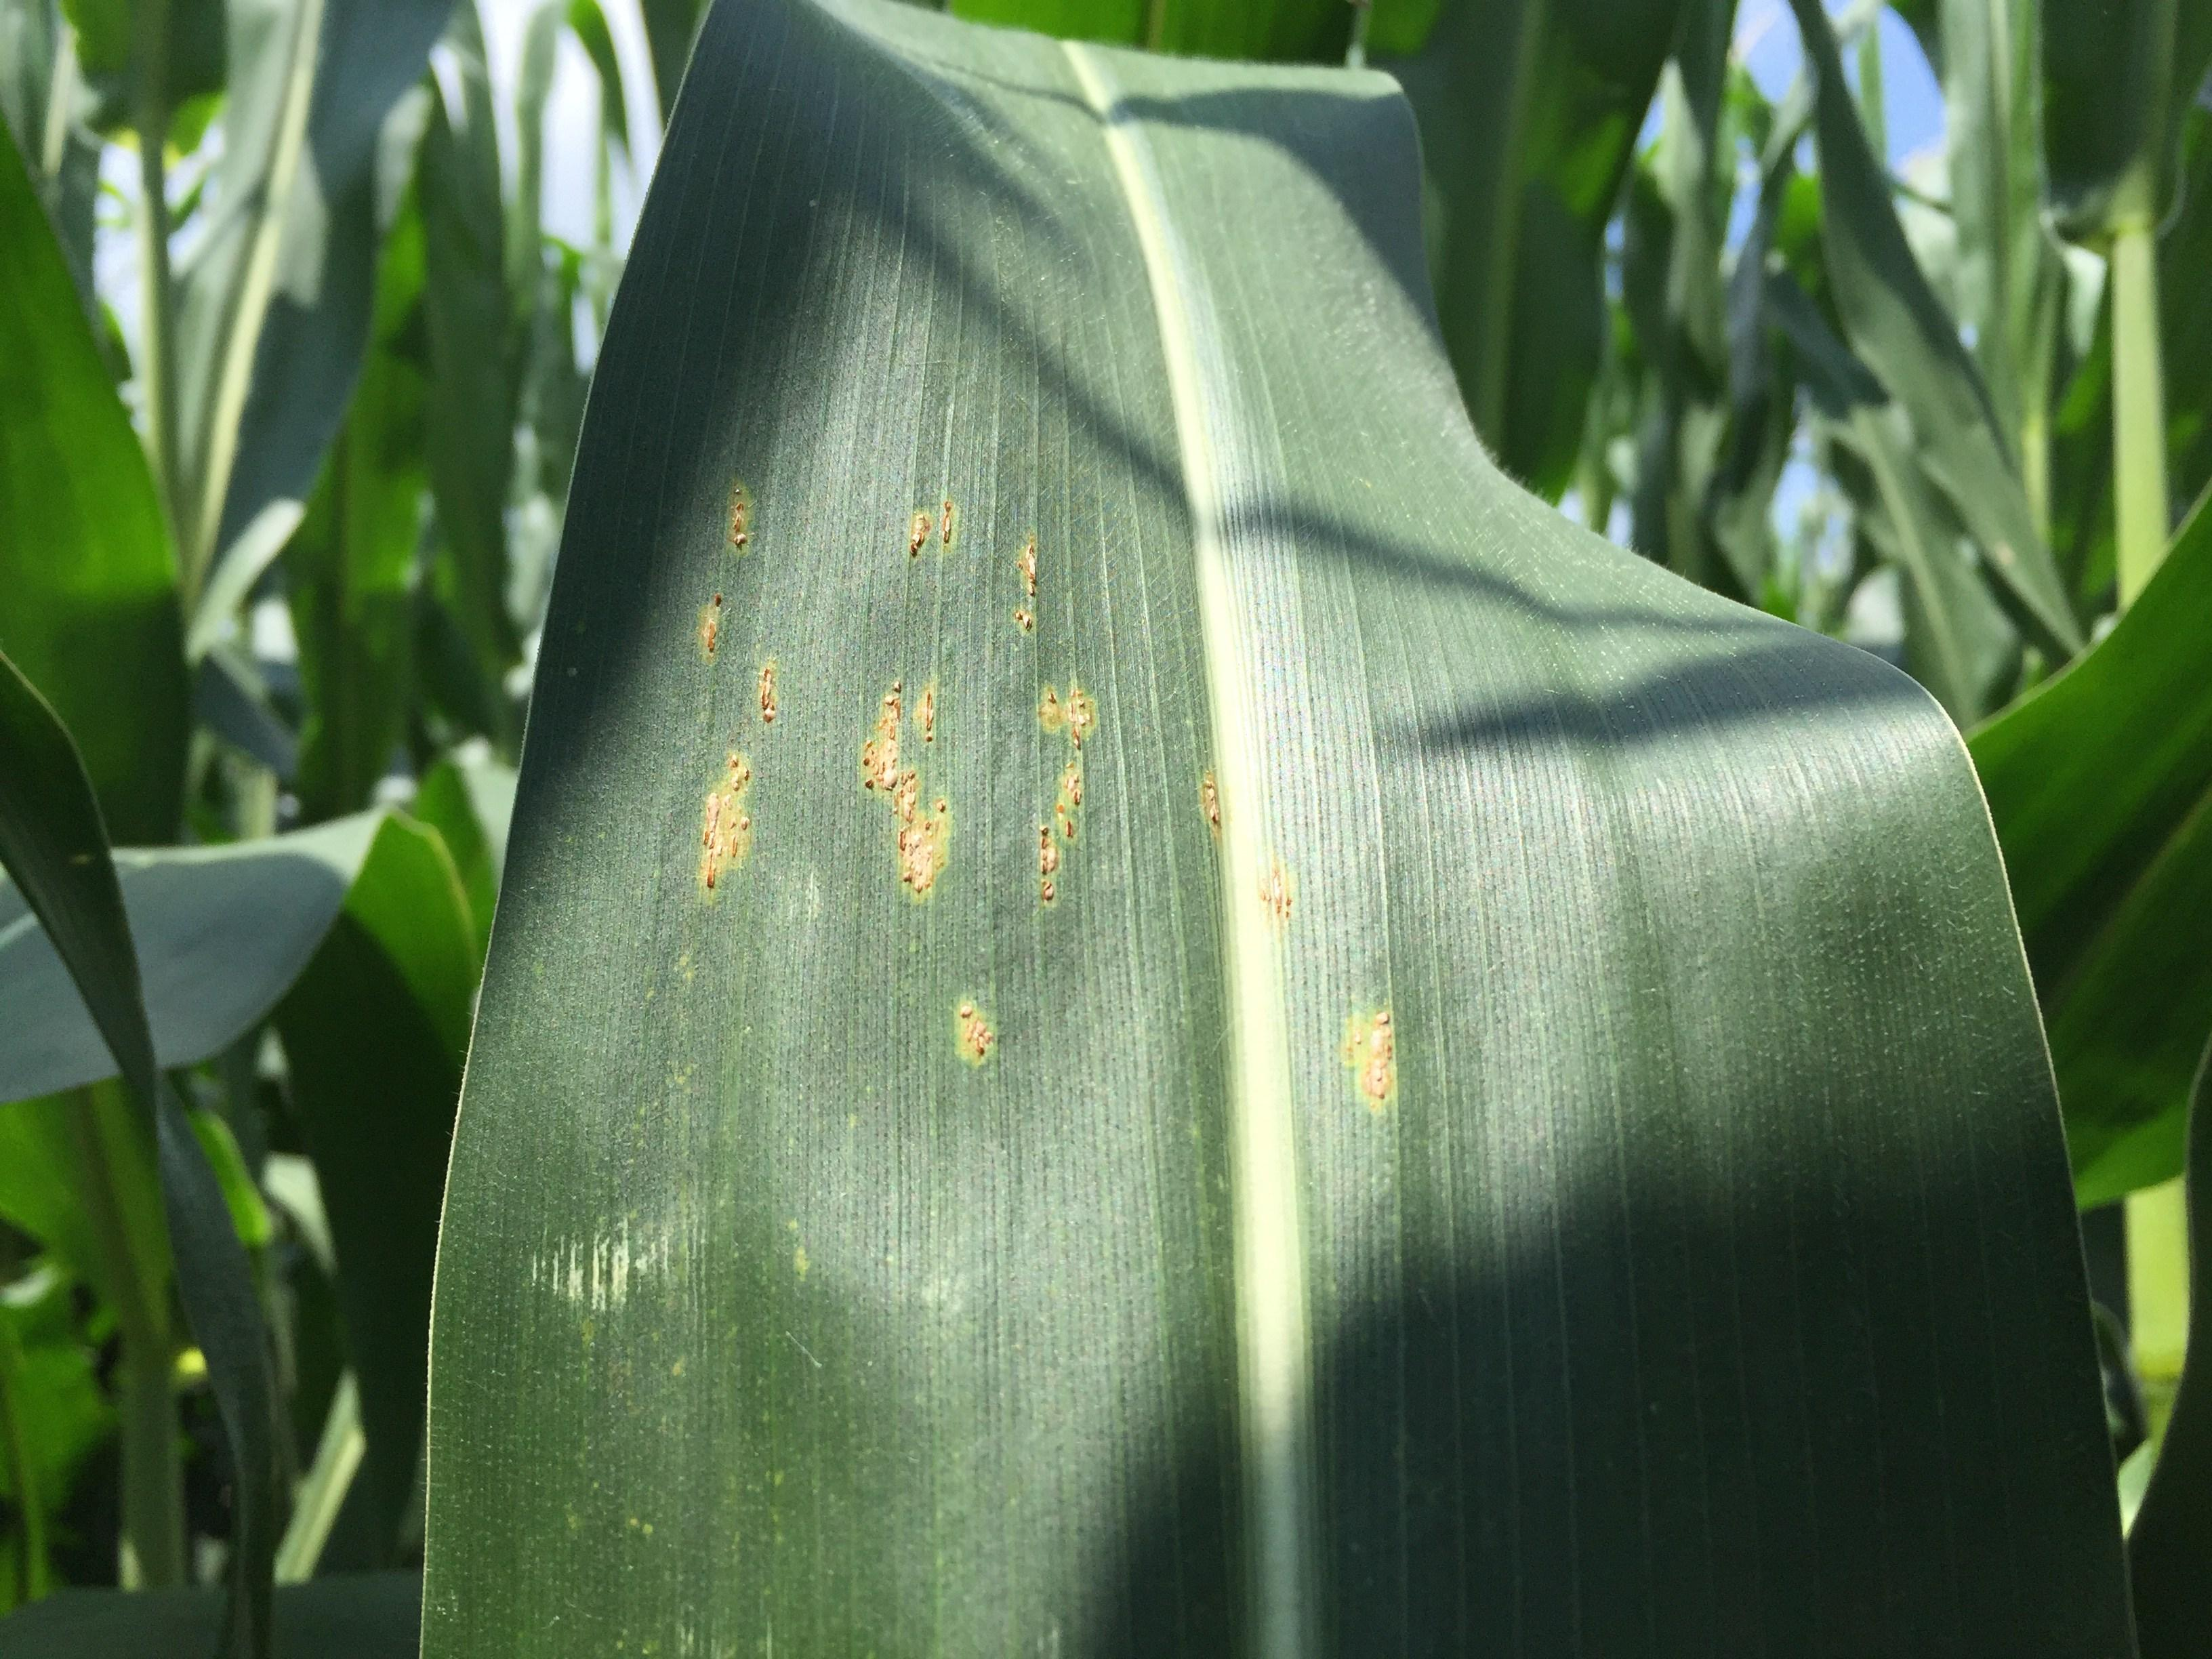Corn rust leaf: (467, 0, 2163, 1659)
